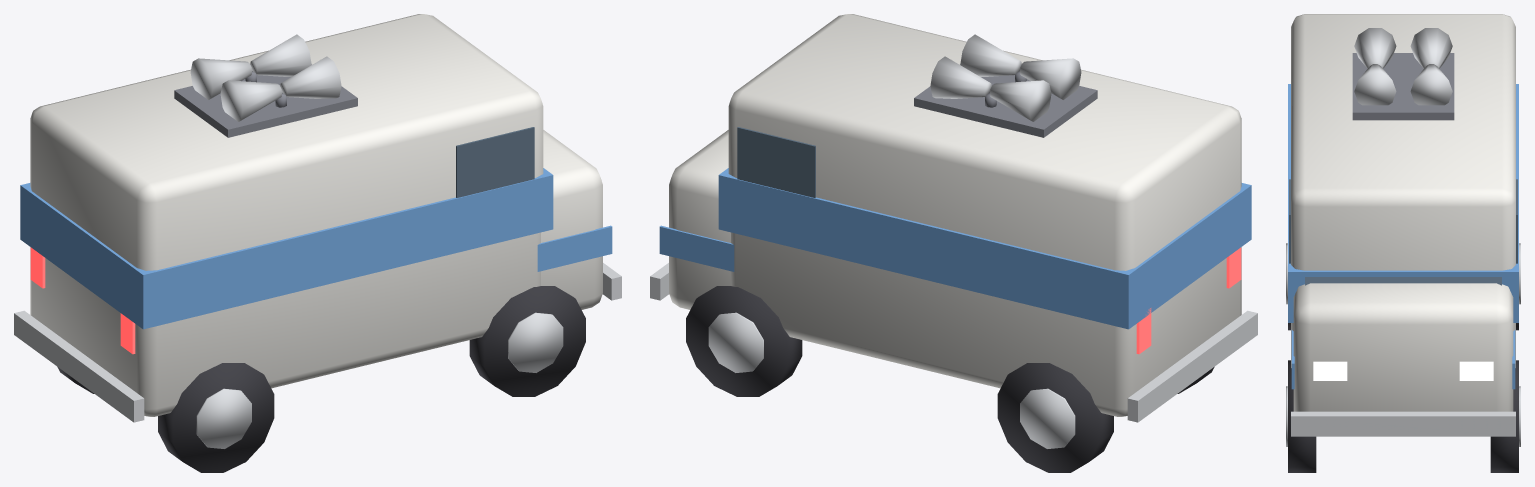
File: van.glb
3 views of the same model, side by side, from view 1: azimuth 30°, elevation 25°; view 2: azimuth 150°, elevation 25°; view 3: azimuth 270°, elevation 25° (orthographic). The views are drawn at different scales.
Parts seen in each view (by area): view 1: CampaignVan; view 2: CampaignVan; view 3: CampaignVan.
Boxes of the visible parts, <box> form: CampaignVan: <box>14,14,621,472</box>; CampaignVan: <box>650,14,1257,472</box>; CampaignVan: <box>1286,14,1520,472</box>.
Size of the model in its own units: 1.88 by 1.26 by 0.834.
